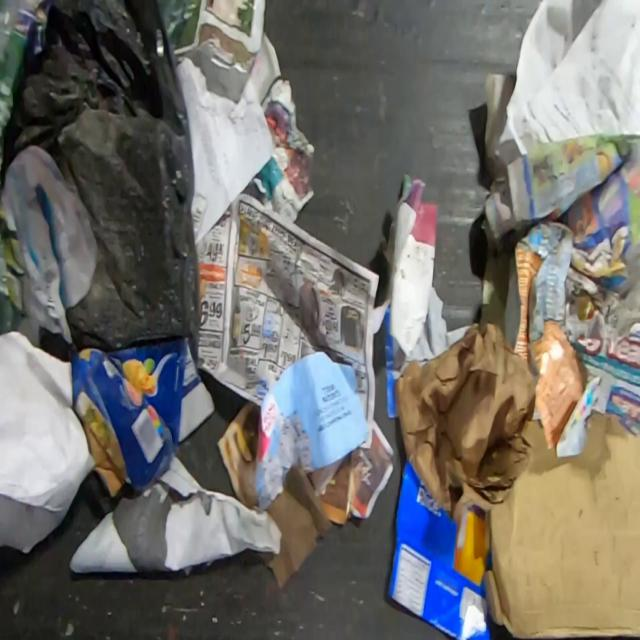cardboard: (452, 410, 640, 639), (395, 322, 539, 520), (70, 336, 216, 500), (386, 456, 492, 640), (503, 220, 584, 448)
soft_plastic: (3, 0, 202, 352), (0, 0, 53, 189)
